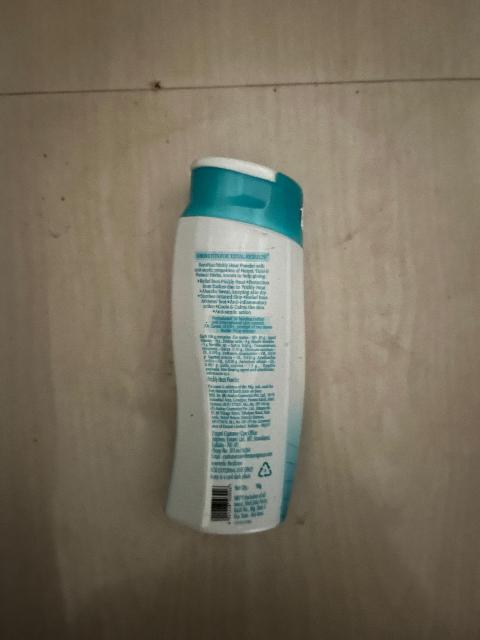boroplus: (173, 157, 301, 557)
